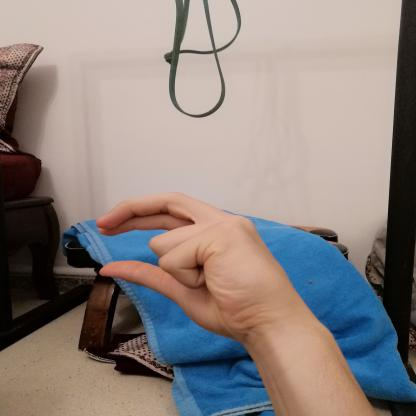DHELL: (79, 184, 306, 348)
